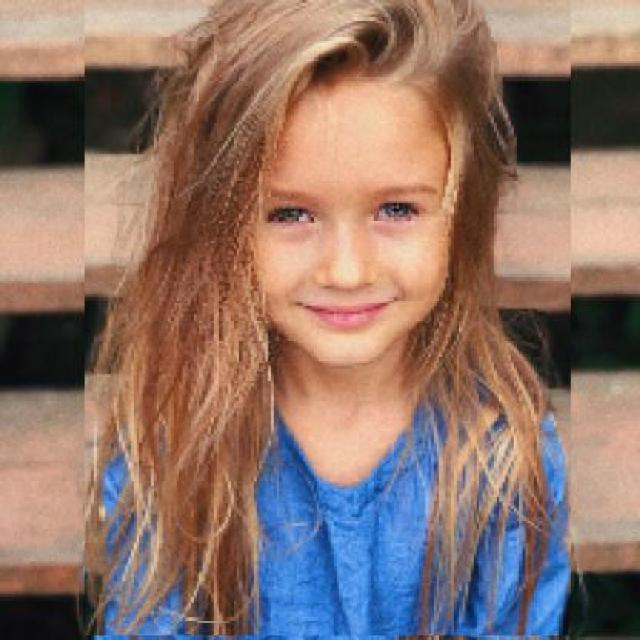child: (83, 0, 571, 637)
